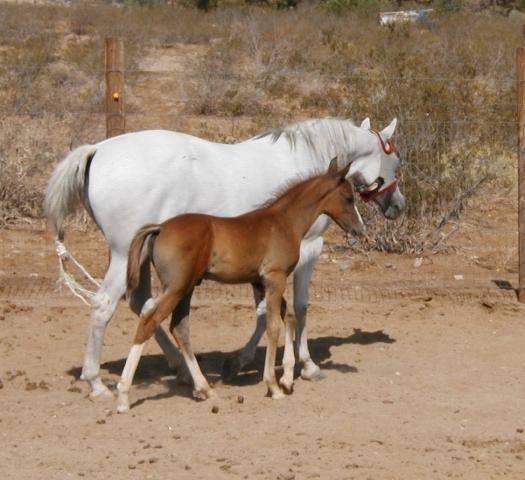horse: (42, 114, 406, 404)
